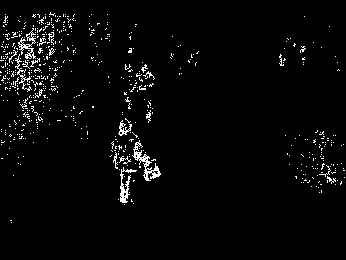person: (109, 117, 162, 204), (135, 62, 157, 122)
